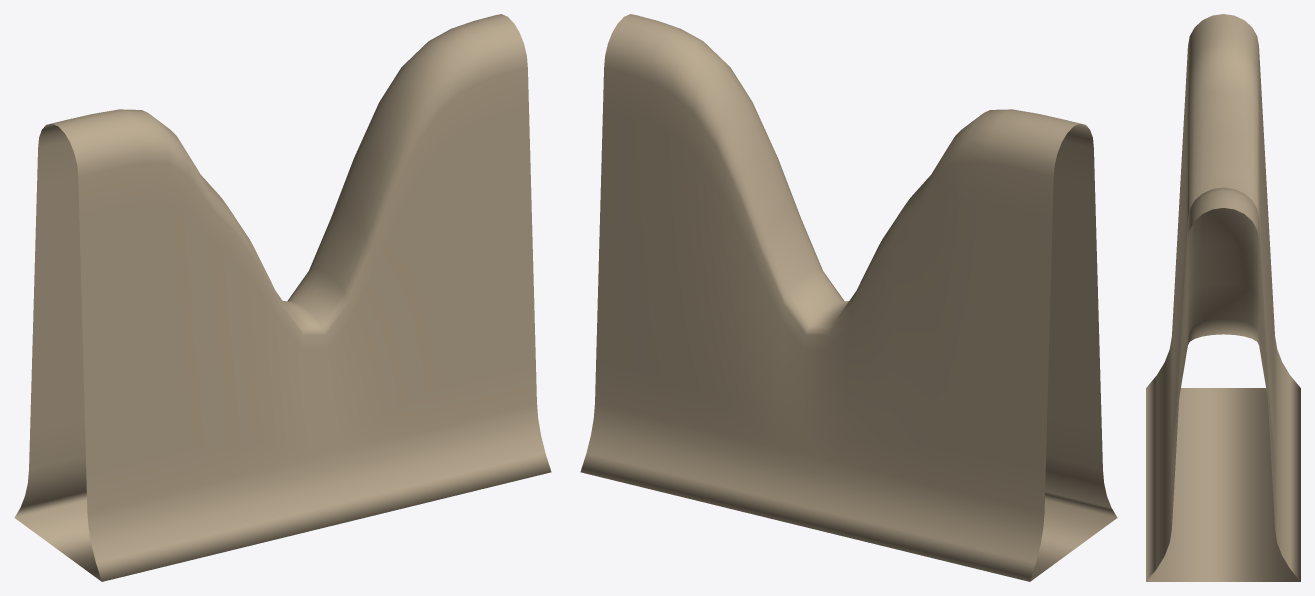
The model's file is KFB_Wall_broken.r4.glb.
The picture shows the model from 3 angles, left to right: view 1: azimuth 30°, elevation 25°; view 2: azimuth 150°, elevation 25°; view 3: azimuth 270°, elevation 25°; orthographic projection. The views are drawn at different scales.
Parts seen in each view (by area): view 1: KFB_Wall_broken; view 2: KFB_Wall_broken; view 3: KFB_Wall_broken.
Boxes of the visible parts, x1,y1,x2,y2 form: KFB_Wall_broken: [14, 14, 551, 581]; KFB_Wall_broken: [580, 14, 1117, 581]; KFB_Wall_broken: [1146, 14, 1300, 581].
Size of the model in its own units: 4 by 3.6 by 1.35.
